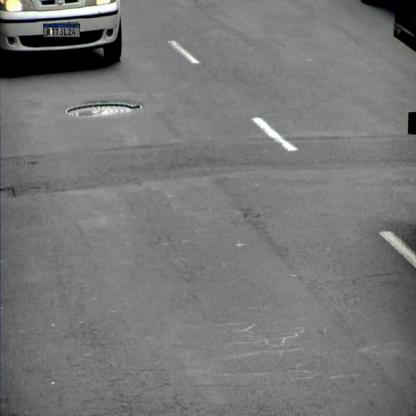PlacaM: (43, 24, 80, 38)
